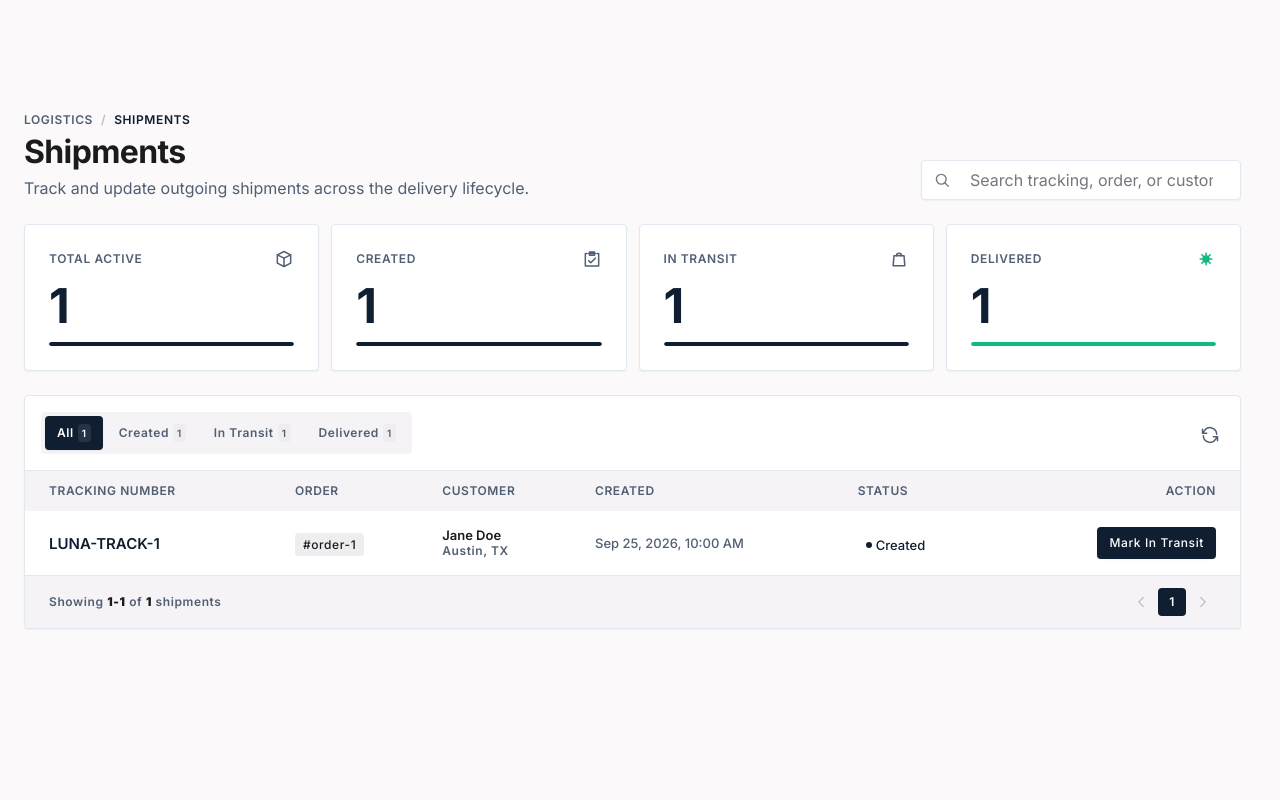
Scenario: ShipmentQueue › falls back when the shipment command fails without a response message
Click the button "Mark In Transit" at (1157, 543), box [1098, 527, 1216, 559]
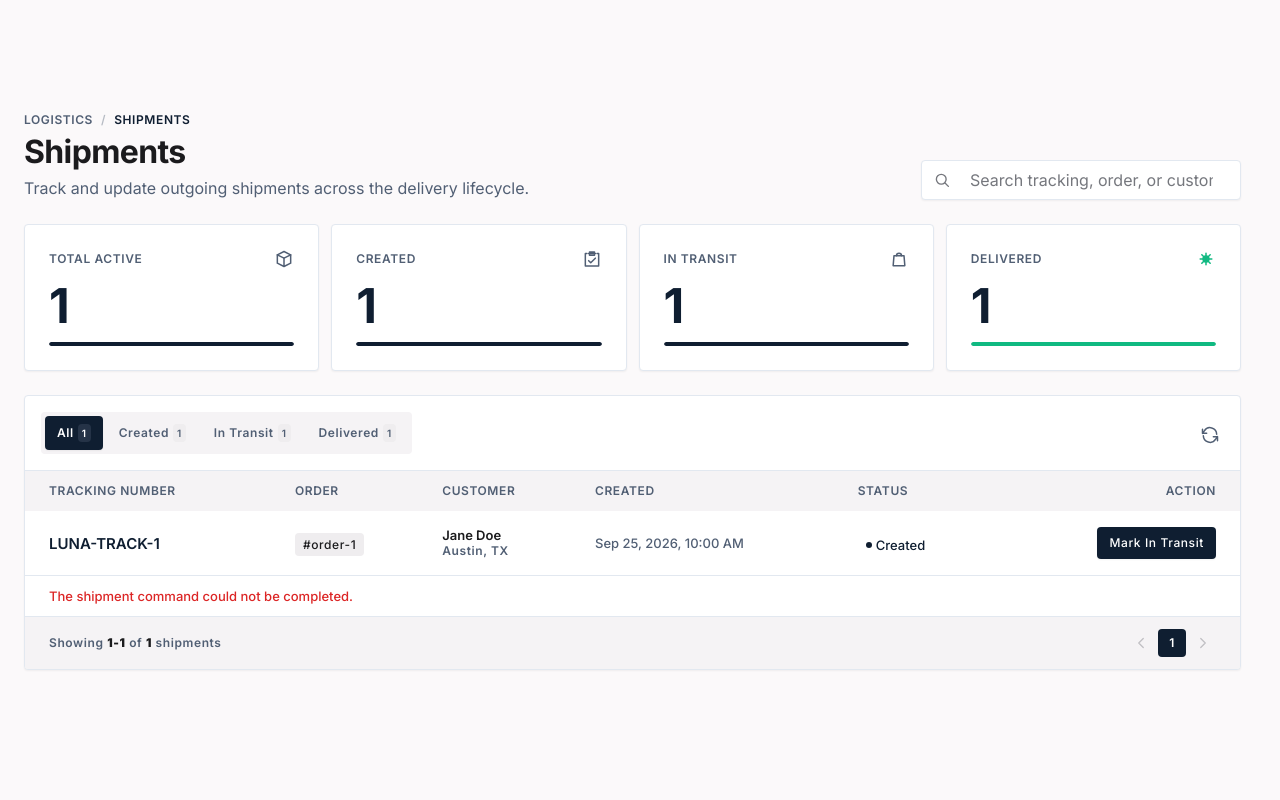
Expected: the text "The shipment command could not be completed." is shown, [25, 575, 1240, 616]
